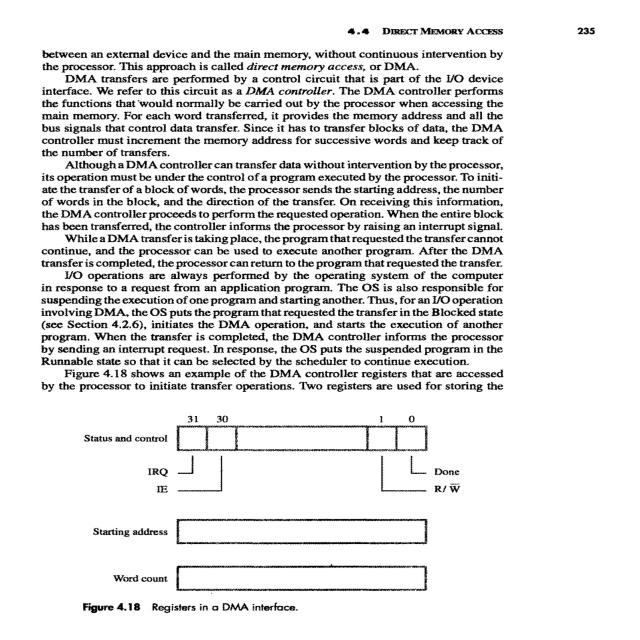diagram: (34, 404, 640, 632)
